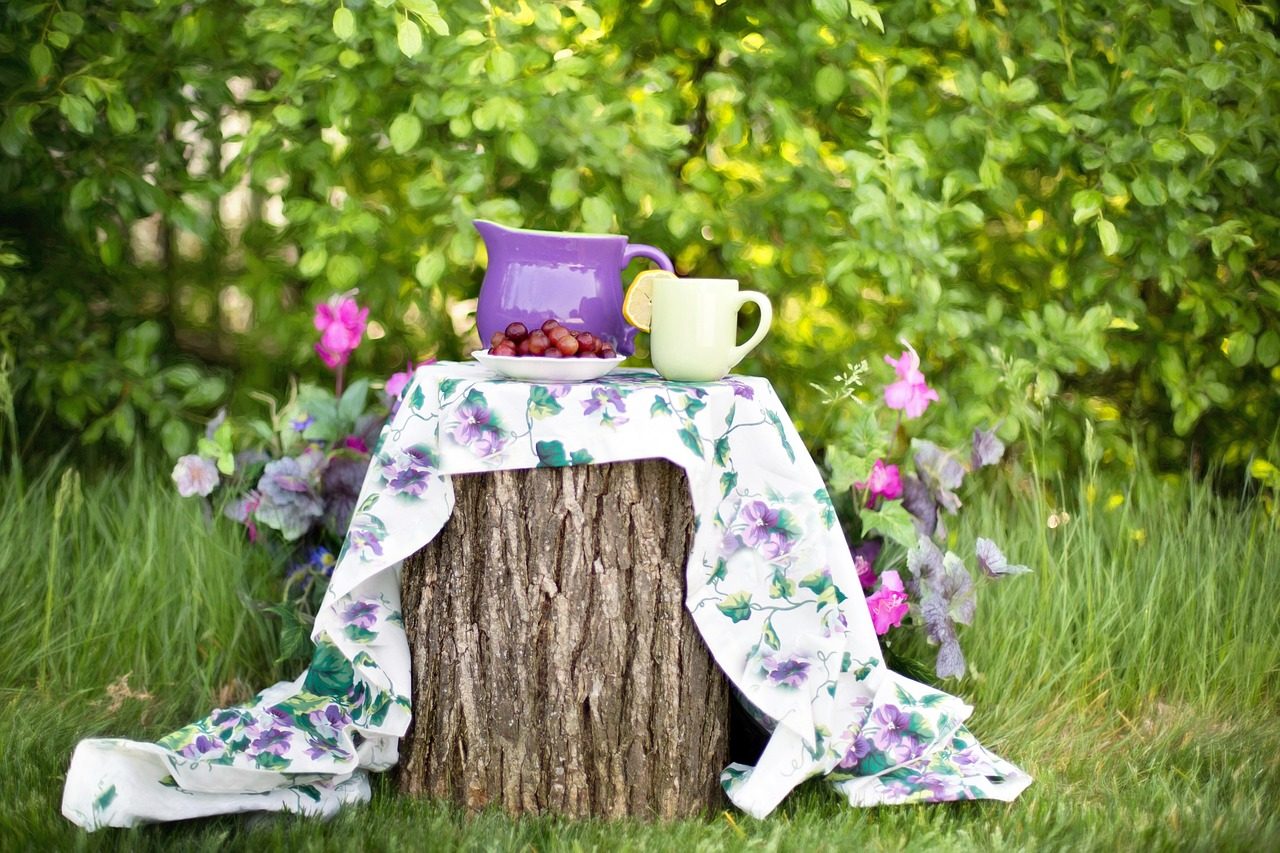mug: (640, 224, 777, 410)
